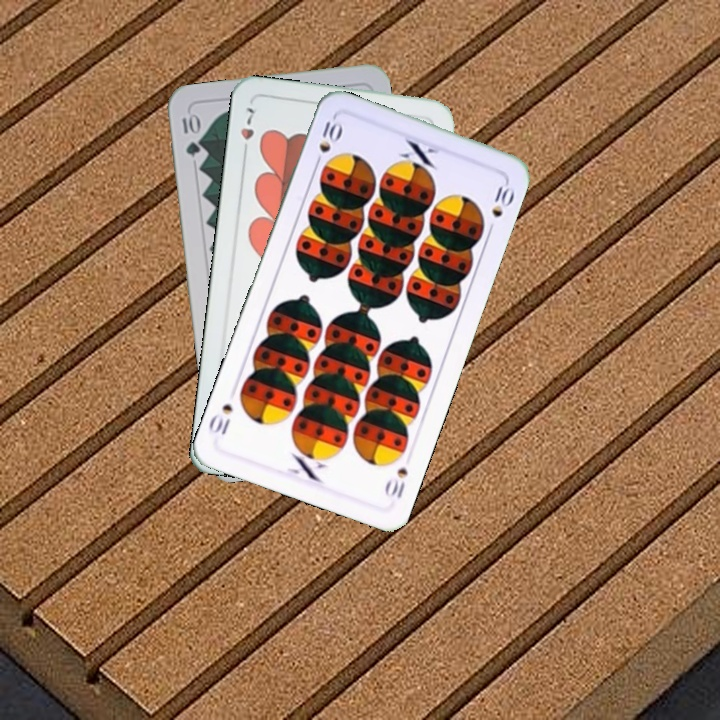G10: (178, 109, 203, 159)
H7: (236, 103, 257, 159)
S10: (310, 114, 345, 170), (380, 463, 411, 501)
